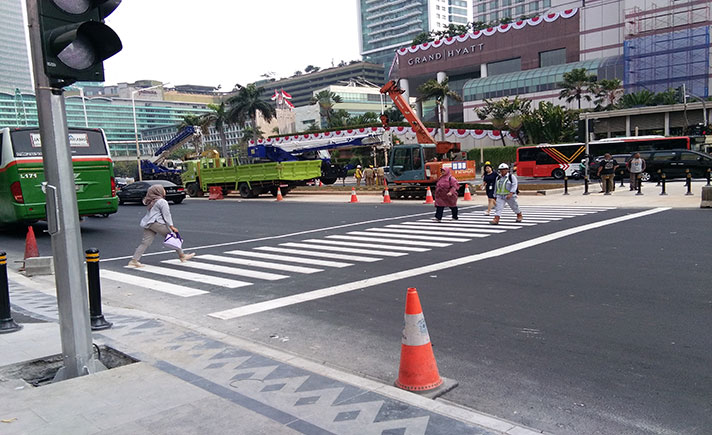bollard: (82, 245, 109, 339), (0, 251, 11, 338)
zebracross: (202, 224, 472, 278)
